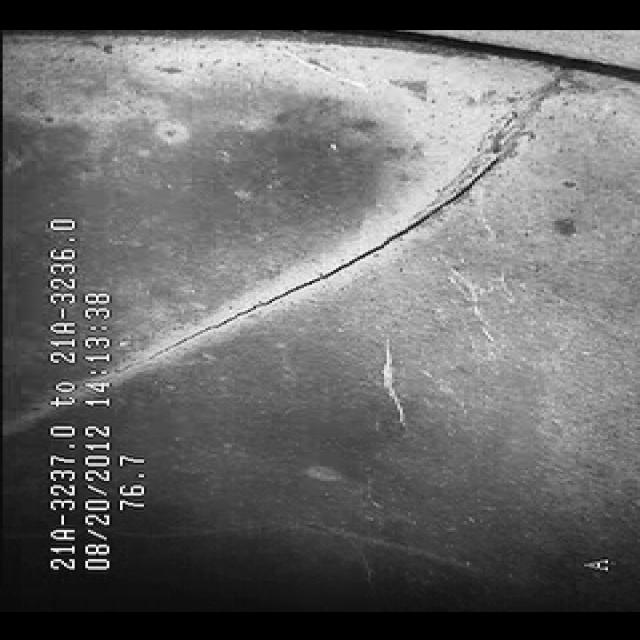Crack: (208, 131, 524, 344)
